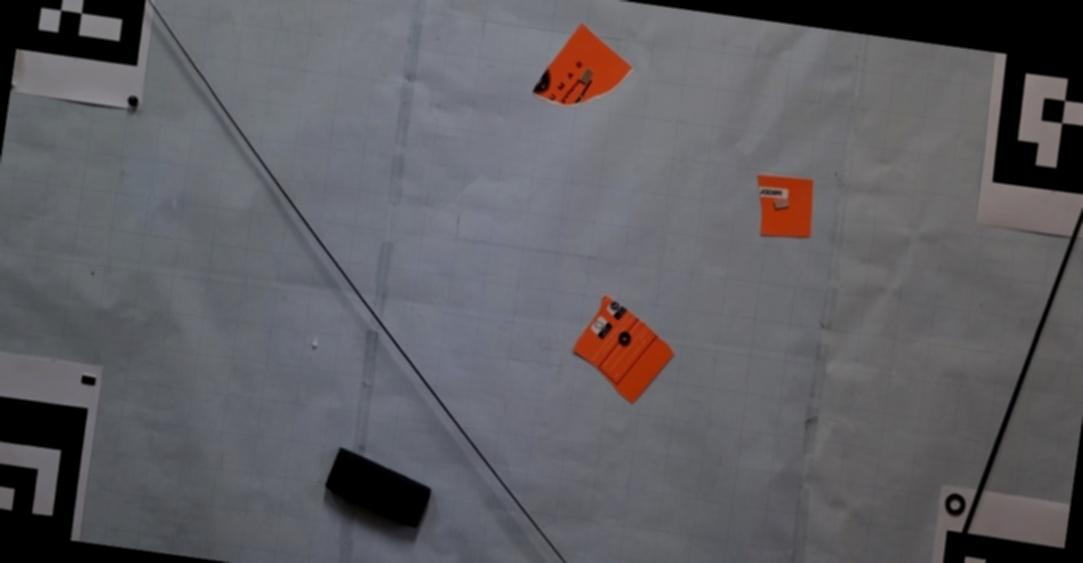obstacle: (571, 297, 675, 403), (322, 445, 433, 530), (533, 23, 632, 106), (756, 174, 813, 238)
